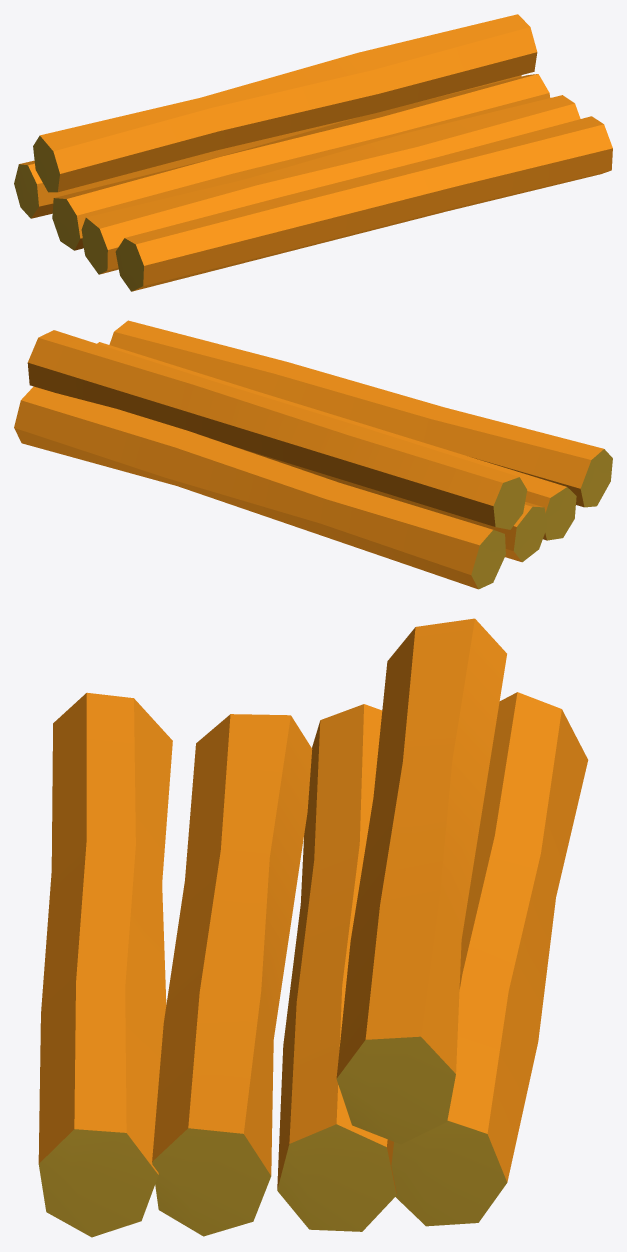
File: logpileA 1.fbx
3 views of the same model, one above another, from view 1: azimuth 30°, elevation 25°; view 2: azimuth 150°, elevation 25°; view 3: azimuth 270°, elevation 25° (orthographic). The views are drawn at different scales.
Parts seen in each view (by area): view 1: log_pileA1; view 2: log_pileA1; view 3: log_pileA1.
Boxes of the visible parts, x1=… form: log_pileA1: x1=14, y1=14, x2=612, y2=291; log_pileA1: x1=14, y1=320, x2=612, y2=589; log_pileA1: x1=38, y1=618, x2=588, y2=1237.
Size of the model in its own units: 22.03 by 5.13 by 11.18.
